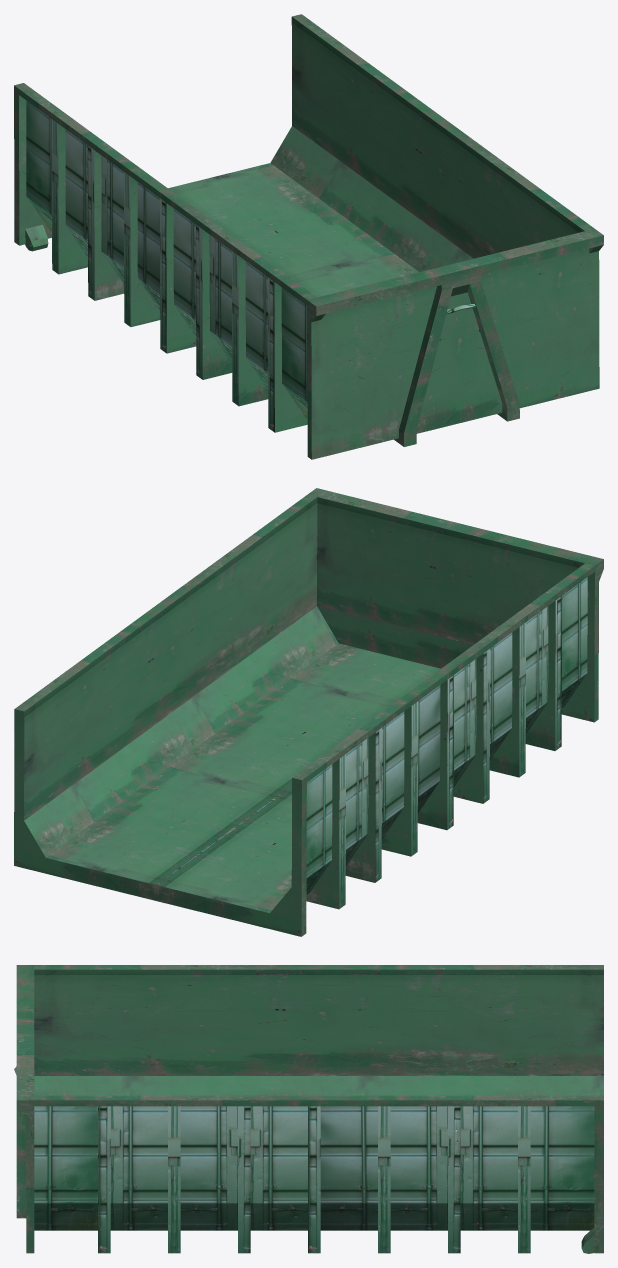
File: DumpsterDirty05a.FBX
3 views of the same model, one above another, from view 1: azimuth 30°, elevation 25°; view 2: azimuth 150°, elevation 25°; view 3: azimuth 270°, elevation 25° (orthographic). The views are drawn at different scales.
Parts seen in each view (by area): view 1: DumpsterDirty05; view 2: DumpsterDirty05; view 3: DumpsterDirty05.
Part boxes in pixels (x1,y1,x2,y2): DumpsterDirty05: (14, 14, 603, 459); DumpsterDirty05: (14, 488, 603, 936); DumpsterDirty05: (14, 965, 603, 1253).
Size of the model in its own units: 3499 by 1891 by 6386.
